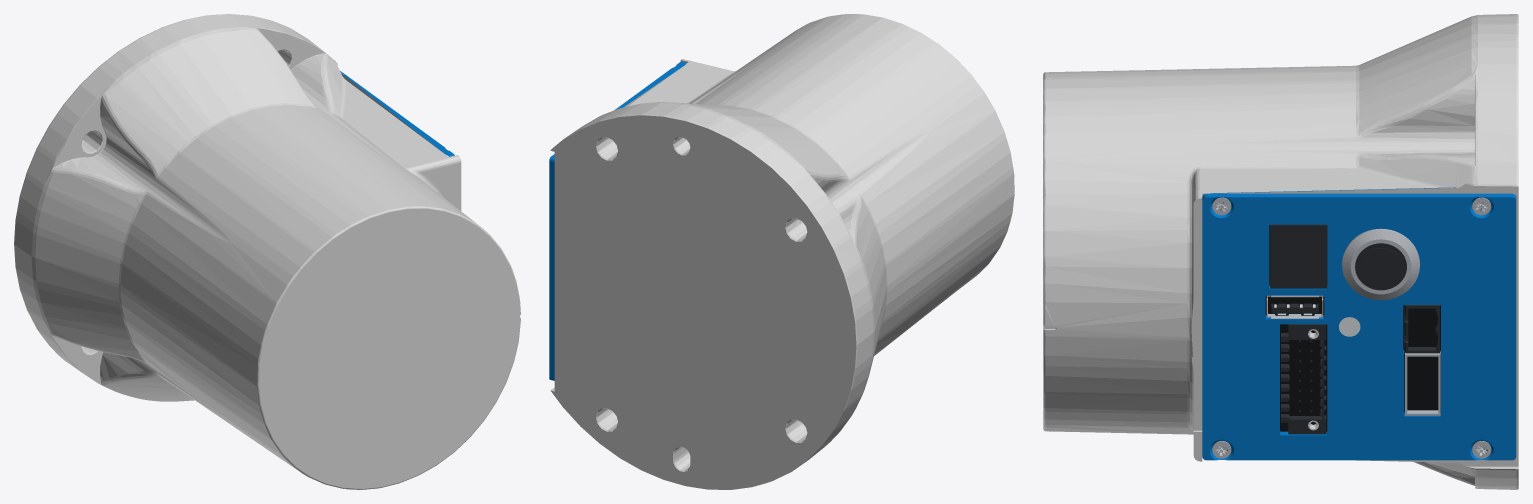
3 views of the same model, side by side, from view 1: azimuth 30°, elevation 25°; view 2: azimuth 150°, elevation 25°; view 3: azimuth 270°, elevation 25° (orthographic). The views are drawn at different scales.
Parts seen in each view (by area): view 1: Link; view 2: Link; view 3: Link.
Boxes of the visible parts, <box> form: Link: <box>14,14,520,489</box>; Link: <box>549,14,1014,489</box>; Link: <box>1043,14,1518,489</box>.
Size of the model in its own units: 0.0985 by 0.1099 by 0.1097.
